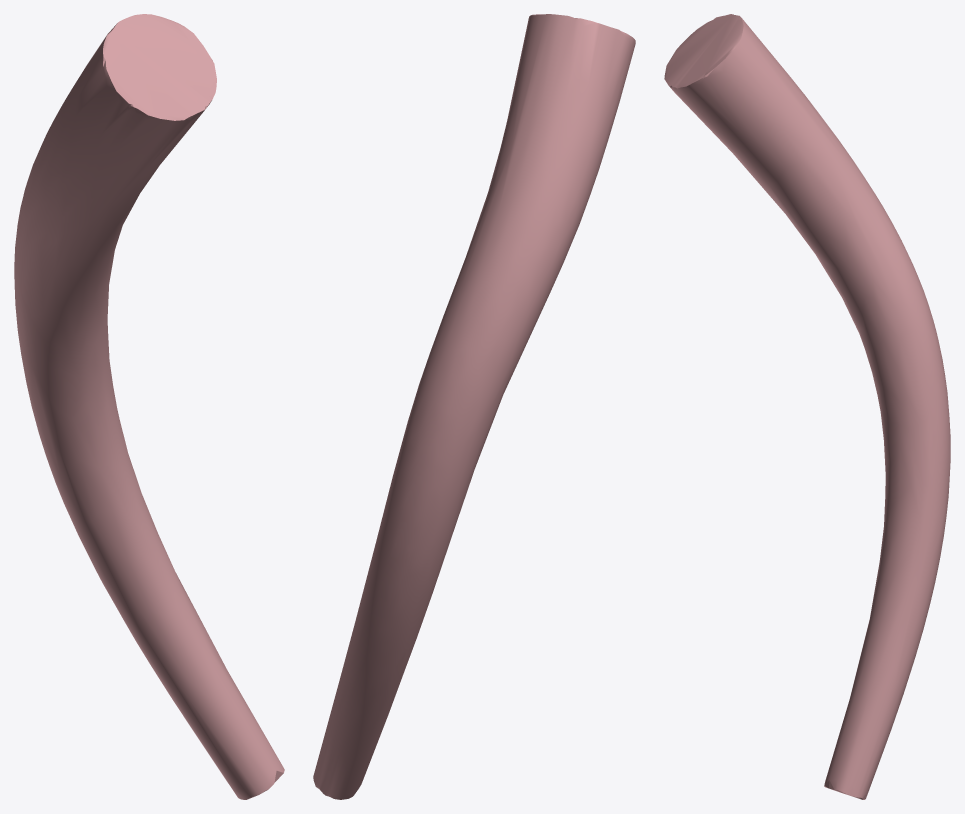
The model's file is fma68216_fj2499.glb.
3 views of the same model, side by side, from view 1: azimuth 30°, elevation 25°; view 2: azimuth 150°, elevation 25°; view 3: azimuth 270°, elevation 25° (orthographic). The views are drawn at different scales.
Visible parts, largest first — view 1: FMA68216_FJ2499; view 2: FMA68216_FJ2499; view 3: FMA68216_FJ2499.
Part boxes in pixels (bbox=[...]): FMA68216_FJ2499: bbox=[14, 14, 284, 799]; FMA68216_FJ2499: bbox=[313, 14, 635, 799]; FMA68216_FJ2499: bbox=[664, 14, 950, 799].
Bounding box in the file's own units: 0.0125 × 0.0388 × 0.0142.
